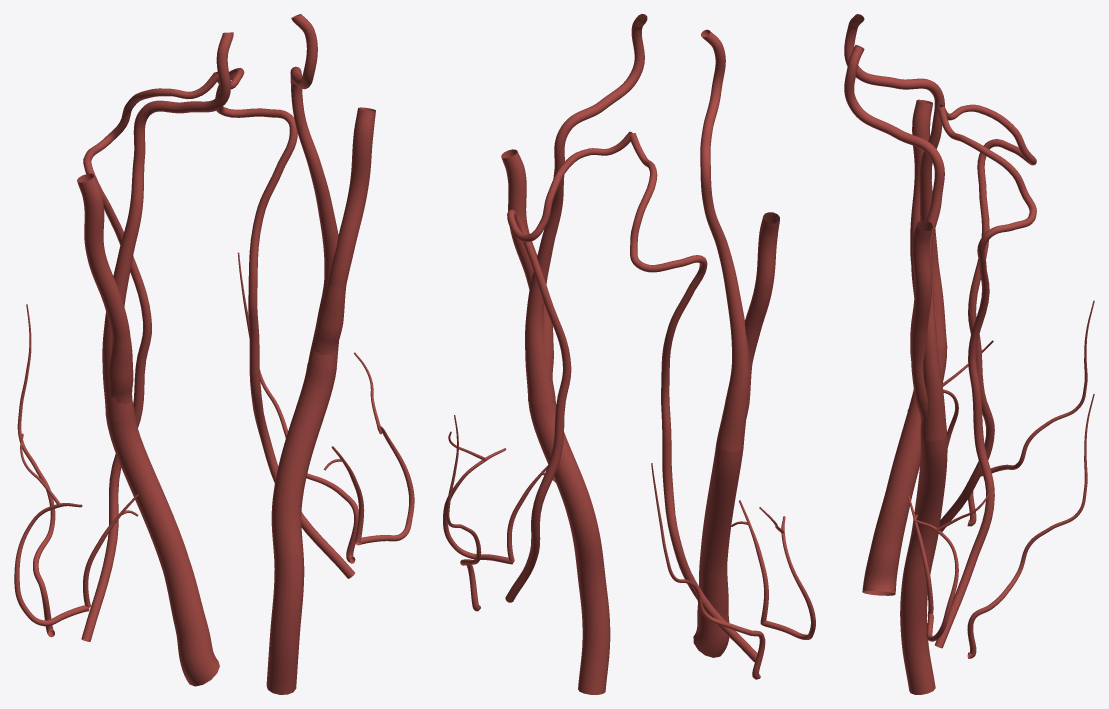
Rendered from arterial-neck-balanced.glb.
3 renders of one model, left to right at view 1: azimuth 30°, elevation 25°; view 2: azimuth 150°, elevation 25°; view 3: azimuth 270°, elevation 25°, orthographic. The views are drawn at different scales.
Parts seen in each view (by area): view 1: za.left-common-carotid-artery, za.right-common-carotid-artery, za.internal-carotid-artery-r, za.vertebral-artery-r, za.vertebral-artery-l, za.external-carotid-artery-l, za.external-carotid-artery-r, za.internal-carotid-artery-l, za.deep-cervical-artery-r, za.transverse-cervical-artery-r, za.transverse-cervical-artery-l, za.deep-cervical-artery-l (+1 smaller); view 2: za.left-common-carotid-artery, za.internal-carotid-artery-r, za.internal-carotid-artery-l, za.right-common-carotid-artery, za.vertebral-artery-r, za.vertebral-artery-l, za.external-carotid-artery-r, za.external-carotid-artery-l, za.deep-cervical-artery-r, za.deep-cervical-artery-l, za.transverse-cervical-artery-r, za.transverse-cervical-artery-l (+1 smaller); view 3: za.left-common-carotid-artery, za.right-common-carotid-artery, za.vertebral-artery-l, za.internal-carotid-artery-l, za.vertebral-artery-r, za.internal-carotid-artery-r, za.external-carotid-artery-l, za.external-carotid-artery-r, za.deep-cervical-artery-l, za.deep-cervical-artery-r, za.transverse-cervical-artery-l, za.inferior-thyroid-artery-l (+1 smaller).
Boxes of the visible parts, x1=… form: za.left-common-carotid-artery: x1=266, y1=363, x2=336, y2=694; za.right-common-carotid-artery: x1=105, y1=415, x2=219, y2=686; za.internal-carotid-artery-r: x1=102, y1=32, x2=233, y2=422; za.vertebral-artery-r: x1=81, y1=72, x2=218, y2=641; za.vertebral-artery-l: x1=214, y1=68, x2=354, y2=578; za.external-carotid-artery-l: x1=312, y1=107, x2=375, y2=354; za.external-carotid-artery-r: x1=77, y1=173, x2=133, y2=404; za.internal-carotid-artery-l: x1=290, y1=14, x2=338, y2=371; za.deep-cervical-artery-r: x1=17, y1=304, x2=55, y2=637; za.transverse-cervical-artery-r: x1=14, y1=433, x2=89, y2=626; za.transverse-cervical-artery-l: x1=354, y1=352, x2=414, y2=545; za.deep-cervical-artery-l: x1=237, y1=252, x2=358, y2=563; za.left-common-carotid-artery: x1=528, y1=399, x2=610, y2=694; za.internal-carotid-artery-r: x1=700, y1=29, x2=749, y2=451; za.internal-carotid-artery-l: x1=525, y1=14, x2=647, y2=404; za.right-common-carotid-artery: x1=693, y1=444, x2=743, y2=657; za.vertebral-artery-r: x1=630, y1=133, x2=757, y2=662; za.vertebral-artery-l: x1=505, y1=131, x2=632, y2=602; za.external-carotid-artery-r: x1=722, y1=212, x2=779, y2=418; za.external-carotid-artery-l: x1=501, y1=149, x2=553, y2=383; za.deep-cervical-artery-r: x1=651, y1=463, x2=765, y2=679; za.deep-cervical-artery-l: x1=446, y1=415, x2=481, y2=611; za.transverse-cervical-artery-r: x1=759, y1=507, x2=815, y2=639; za.transverse-cervical-artery-l: x1=443, y1=431, x2=512, y2=564; za.left-common-carotid-artery: x1=900, y1=434, x2=947, y2=694; za.right-common-carotid-artery: x1=862, y1=346, x2=947, y2=595; za.vertebral-artery-l: x1=935, y1=106, x2=1036, y2=648; za.internal-carotid-artery-l: x1=844, y1=45, x2=946, y2=441; za.vertebral-artery-r: x1=937, y1=104, x2=1036, y2=531; za.internal-carotid-artery-r: x1=844, y1=14, x2=946, y2=349; za.external-carotid-artery-l: x1=910, y1=220, x2=932, y2=421; za.external-carotid-artery-r: x1=910, y1=99, x2=936, y2=329; za.deep-cervical-artery-l: x1=967, y1=394, x2=1094, y2=658; za.deep-cervical-artery-r: x1=967, y1=300, x2=1094, y2=526; za.transverse-cervical-artery-l: x1=915, y1=487, x2=993, y2=641; za.inferior-thyroid-artery-l: x1=907, y1=496, x2=933, y2=613.
Size of the model in its own units: 0.1234 by 0.2087 by 0.0744.
